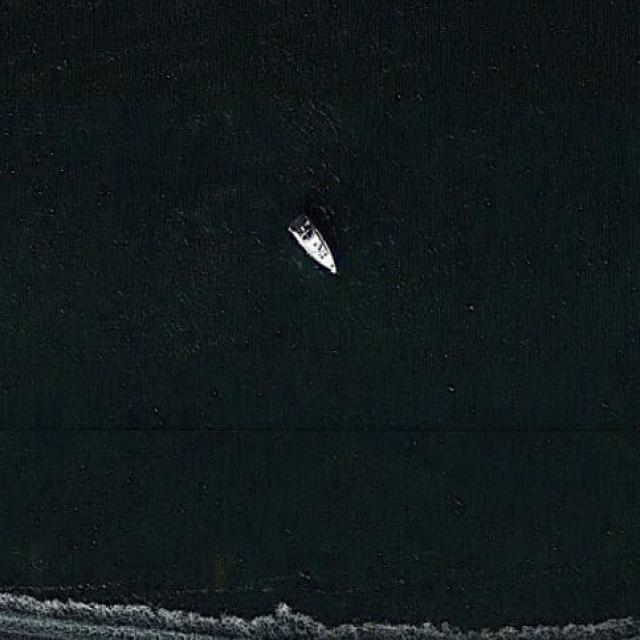ship: (289, 212, 338, 276)
